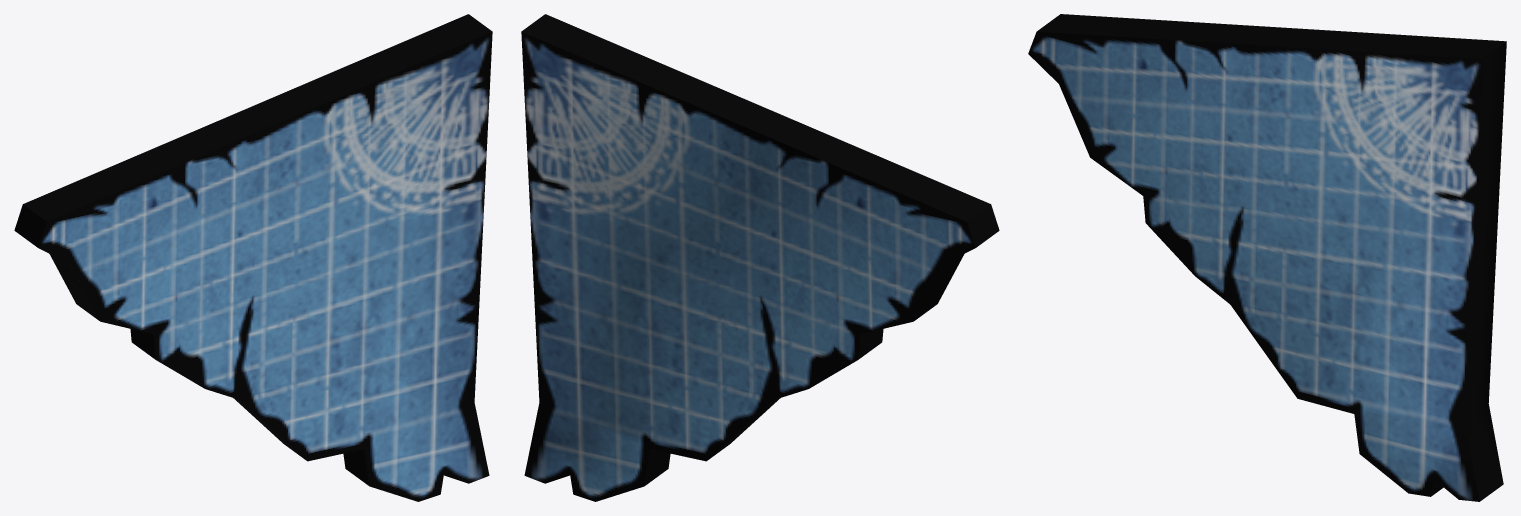
The model's file is pickup_blueprint_mesh.FBX.
The picture shows the model from 3 angles, left to right: view 1: azimuth 30°, elevation 25°; view 2: azimuth 150°, elevation 25°; view 3: azimuth 330°, elevation 25°; orthographic projection.
Parts seen in each view (by area): view 1: blueprint_mesh; view 2: blueprint_mesh; view 3: blueprint_mesh.
Part boxes in pixels (box(x1,y1,x2,y2)): blueprint_mesh: box(14, 14, 492, 501); blueprint_mesh: box(521, 14, 999, 501); blueprint_mesh: box(1028, 14, 1506, 501).
Size of the model in its own units: 22.9 by 21.79 by 2.1.
